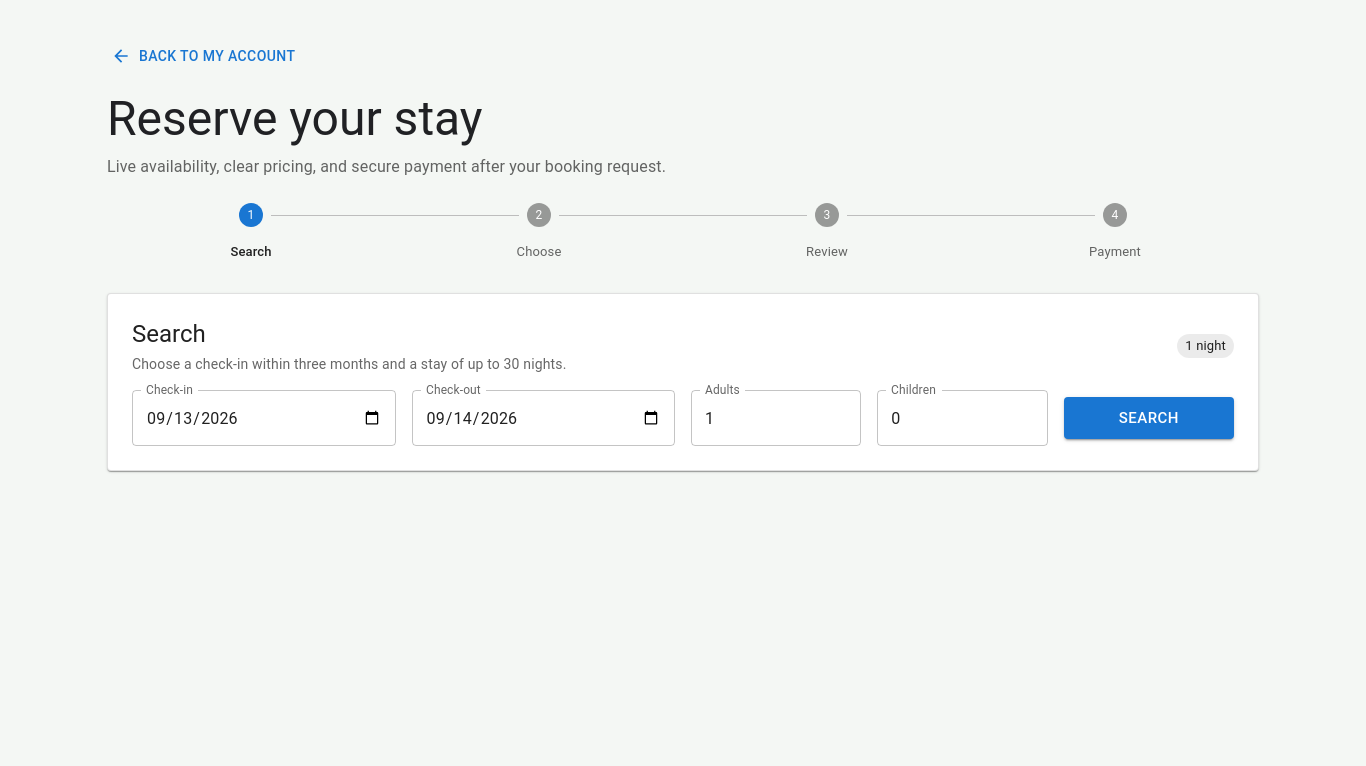
Scenario: PortalBookingPage complimentary nights › stops the guest selecting more nights than they hold credits for
Click the button "Search".
click(1149, 418)  # box [1064, 397, 1234, 439]
(page scrolled)
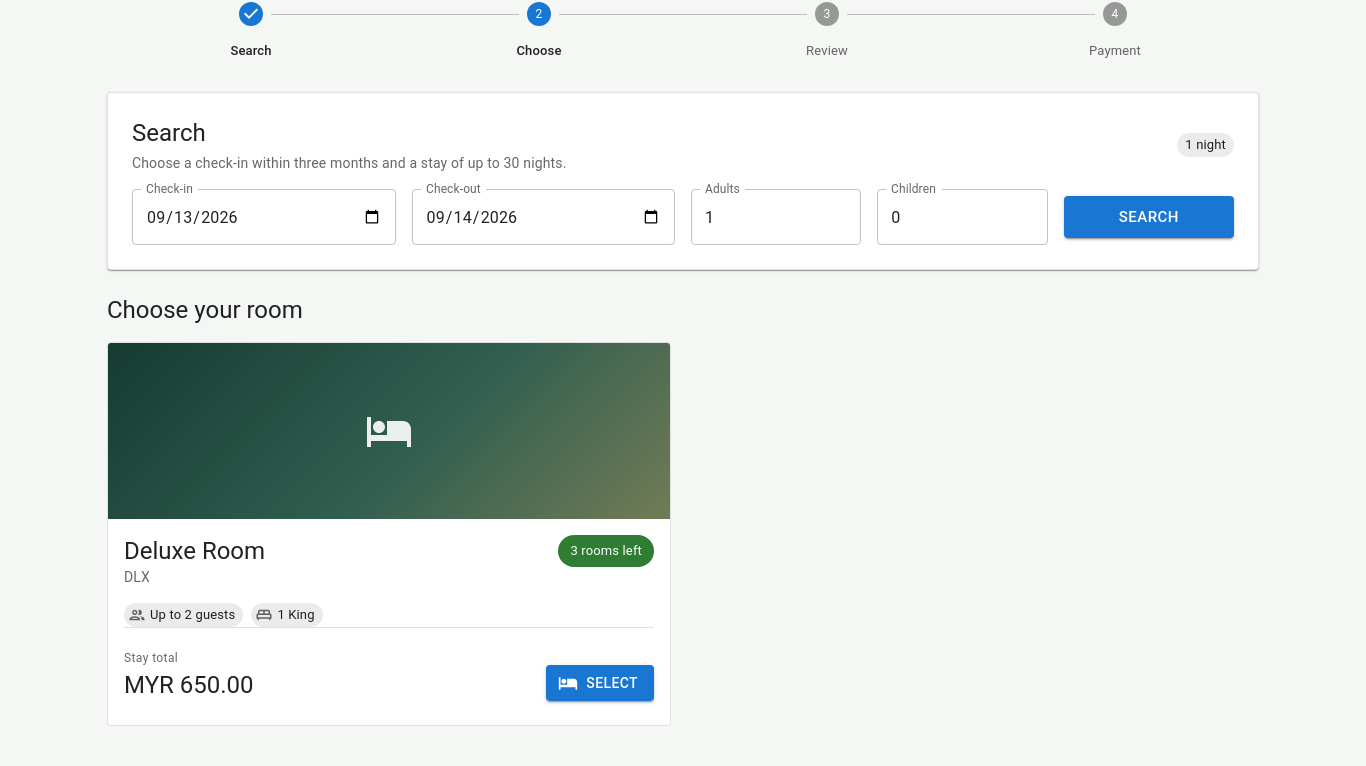
Click the button "Select".
click(600, 683)  # box [546, 665, 654, 701]
(page scrolled)
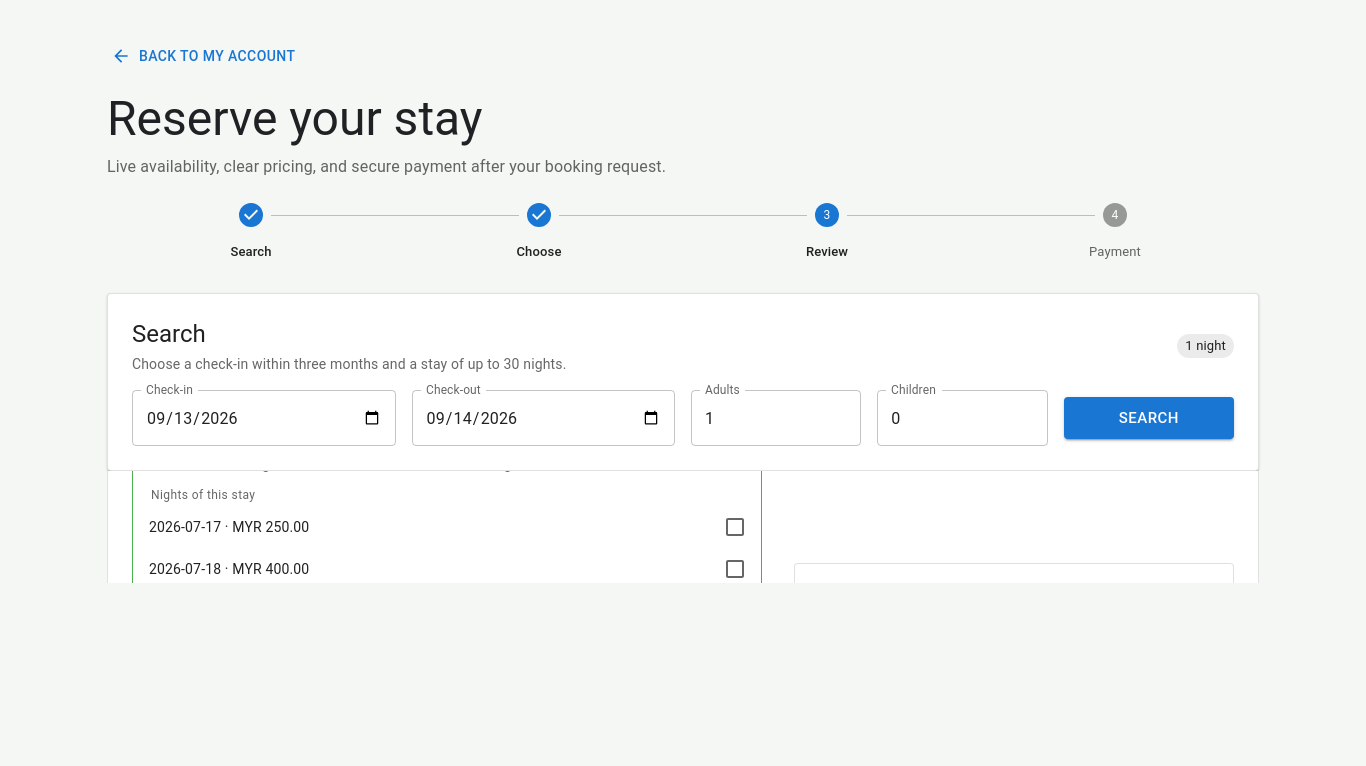
Click the checkbox labelled "2026-07-17 · MYR 250.00".
click(185, 527)  # box [149, 515, 746, 539]
(page scrolled)
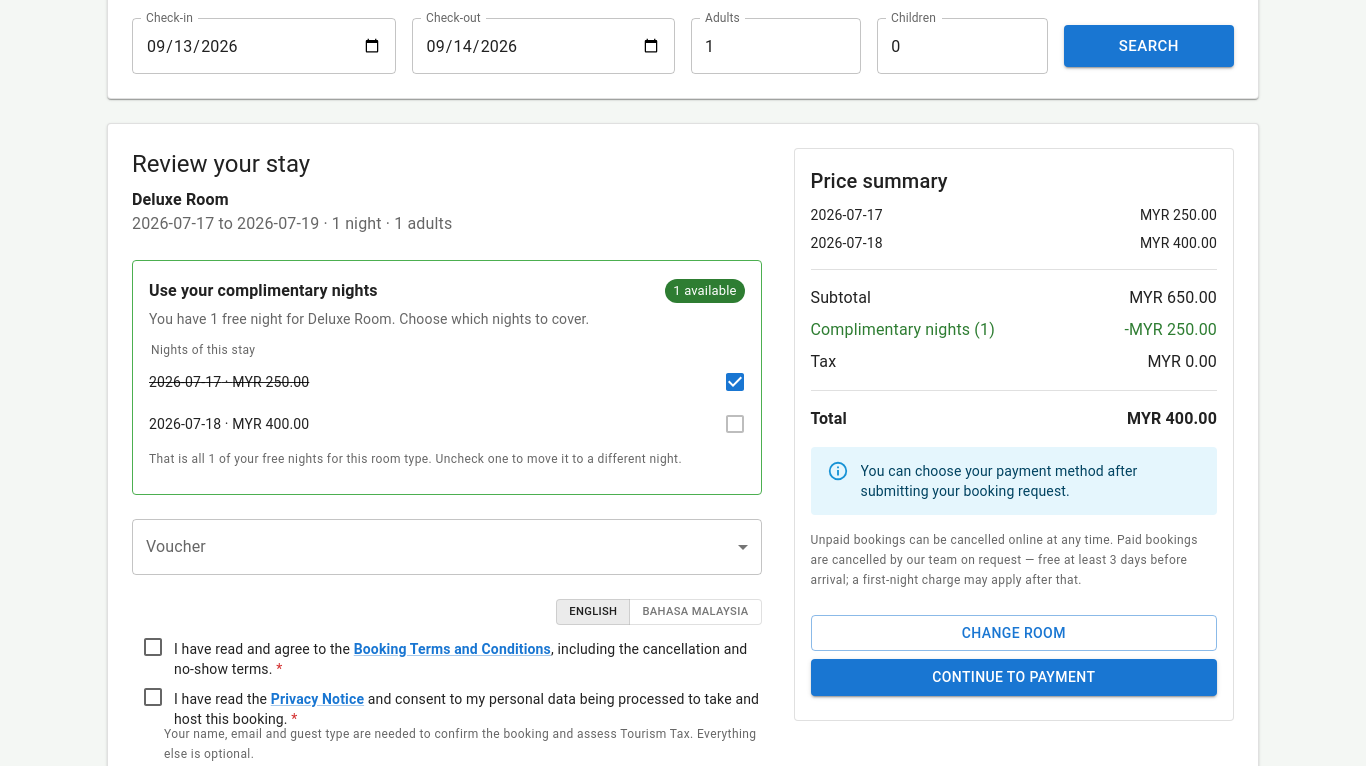
Expected: the checkbox labelled "2026-07-17 · MYR 250.00" is enabled, [149, 370, 746, 394]
Expected: the checkbox labelled "2026-07-18 · MYR 400.00" is disabled, [149, 412, 746, 436]
